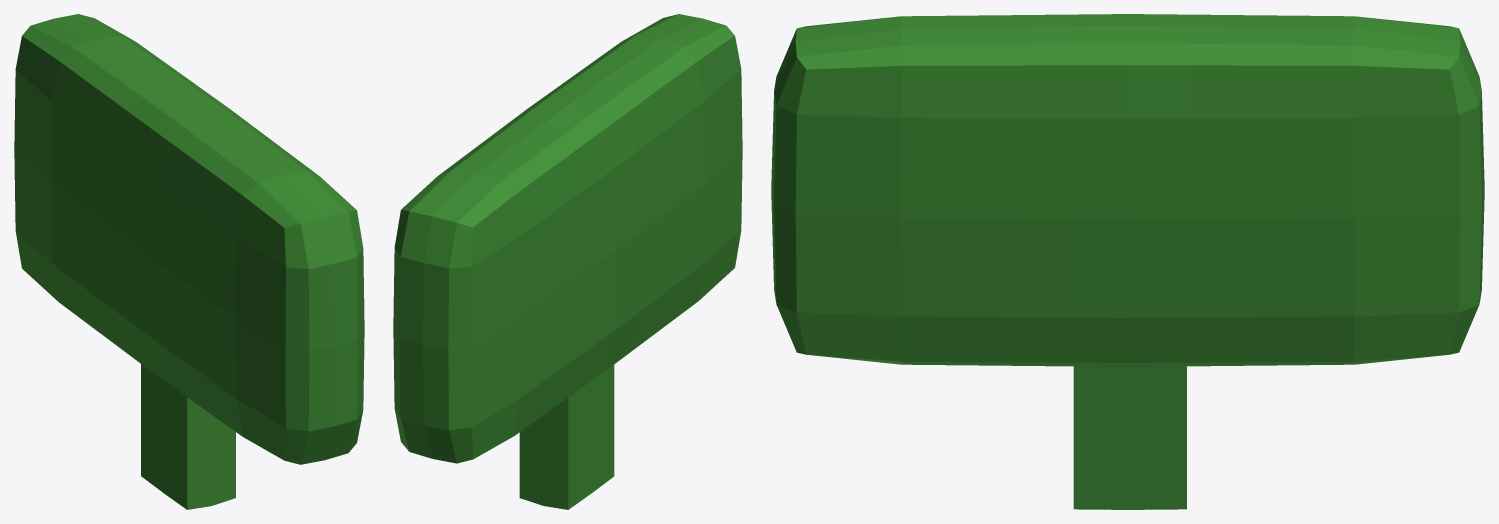
The model's file is green_small_sign.fbx.
3 renders of one model, left to right at view 1: azimuth 30°, elevation 25°; view 2: azimuth 150°, elevation 25°; view 3: azimuth 270°, elevation 25°, orthographic. The views are drawn at different scales.
Visible parts, largest first — view 1: Cube.001; view 2: Cube.001; view 3: Cube.001.
Boxes of the visible parts, left/top/right/bottom form: Cube.001: left=14, top=14, right=364, bottom=509; Cube.001: left=393, top=14, right=742, bottom=509; Cube.001: left=771, top=14, right=1484, bottom=509.
Size of the model in its own units: 56.49 by 215 by 295.
